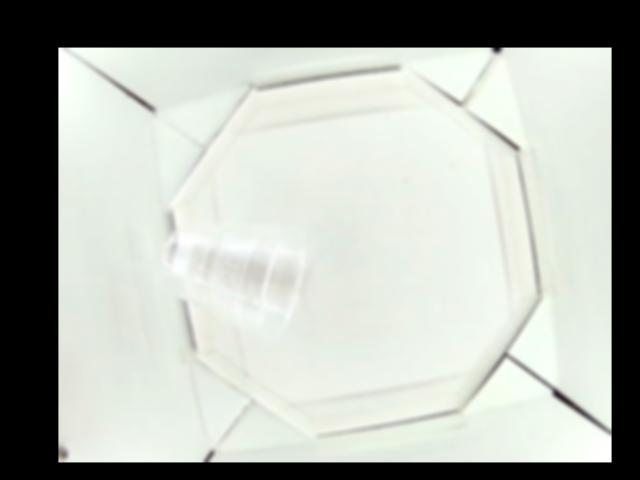Cup: (160, 223, 305, 325)
